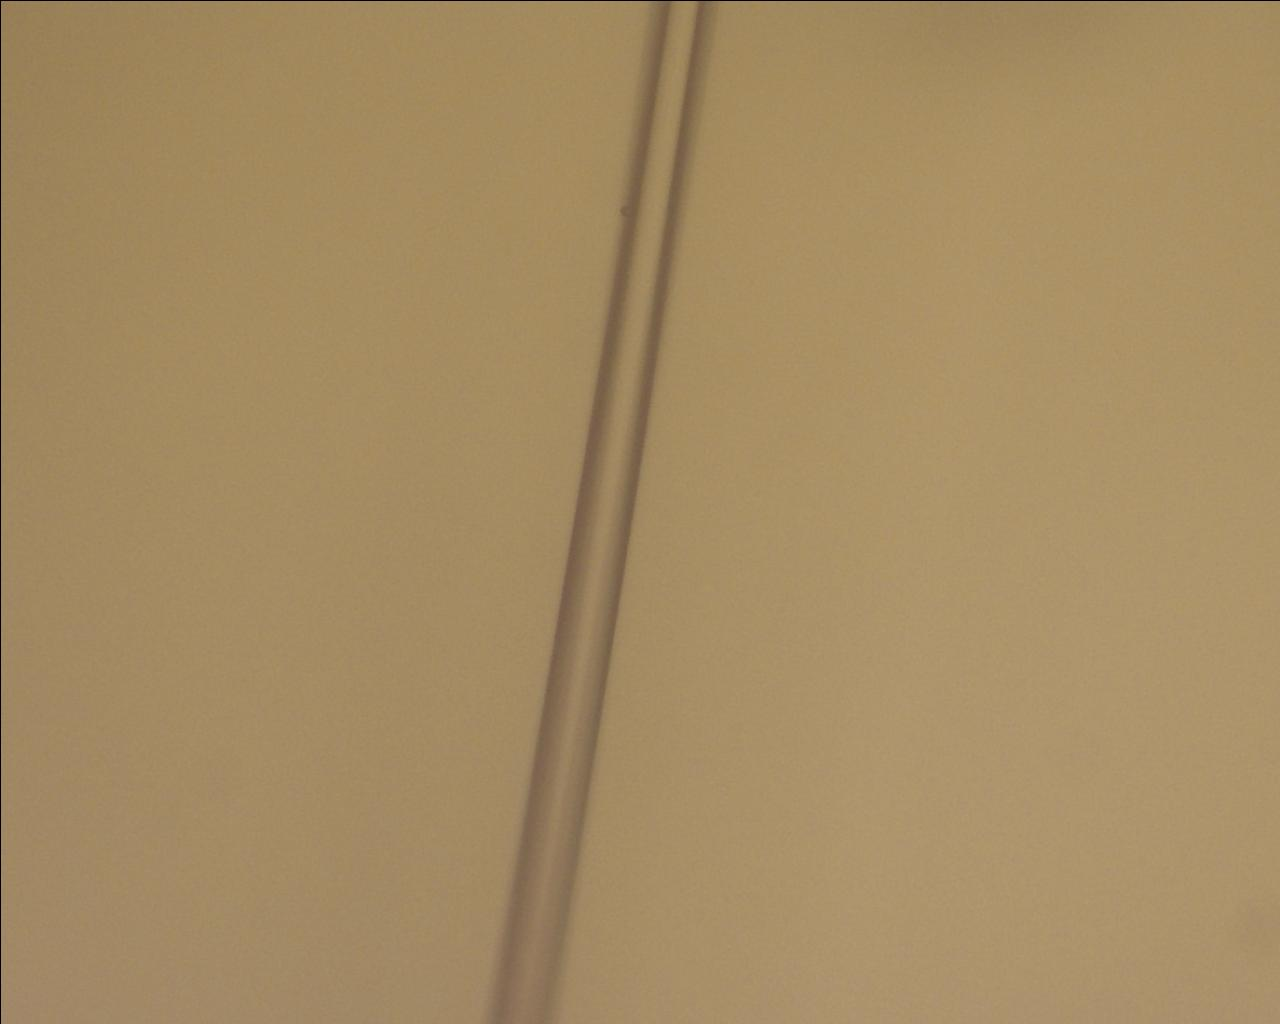fiber: (665, 366, 1238, 529), (0, 686, 665, 817), (0, 458, 636, 571)
